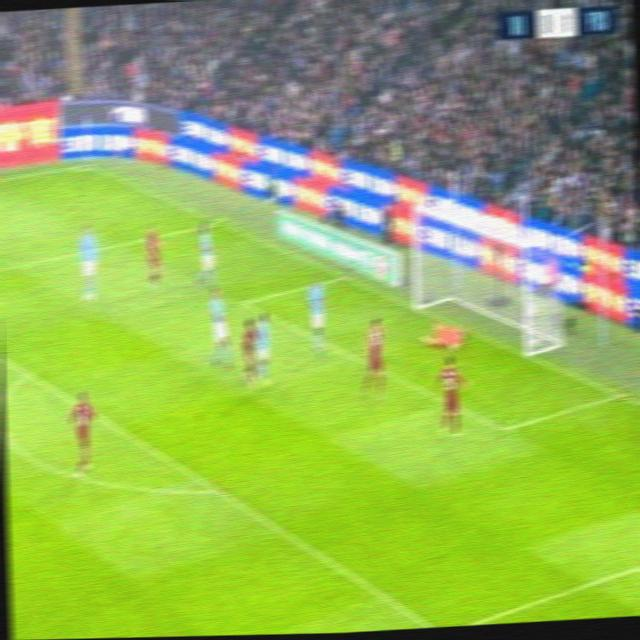bigarea_top_outter: (212, 214, 228, 228)
bottom_arc_area_intersection: (207, 476, 228, 500)
corner: (78, 157, 94, 169)
smallarea_bottom_inner: (494, 414, 516, 443)
smallarea_bottom_outter: (610, 381, 631, 404)
smallarea_top_inner: (236, 295, 252, 311)
smallarea_top_outter: (337, 266, 353, 282)
top_arc_area_intersection: (18, 363, 34, 381)
